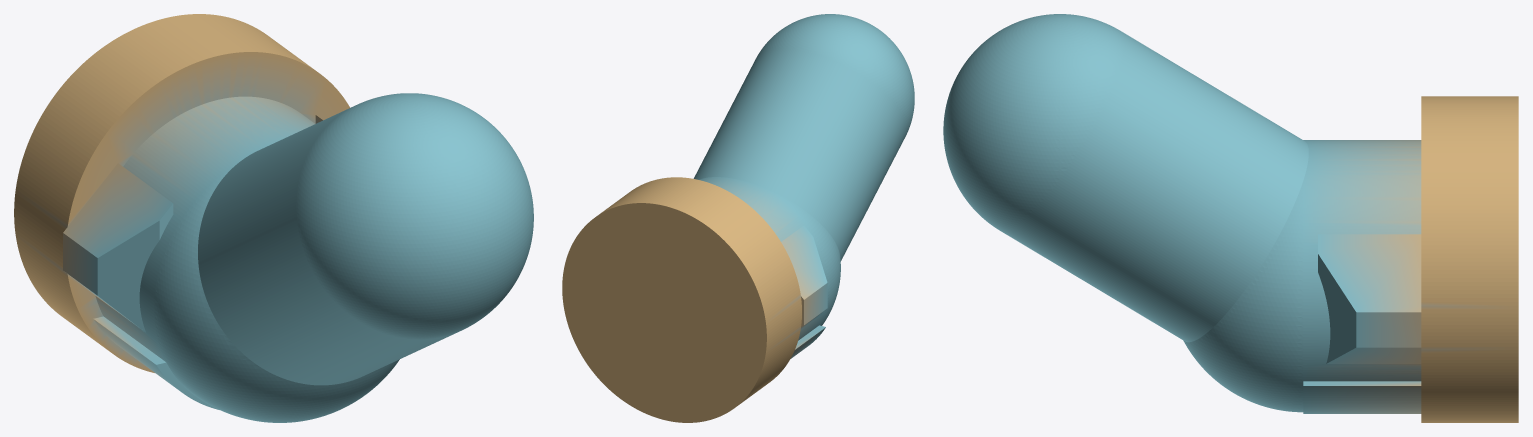
The model's file is upper-hook.glb.
3 renders of one model, left to right at view 1: azimuth 30°, elevation 25°; view 2: azimuth 150°, elevation 25°; view 3: azimuth 270°, elevation 25°, orthographic. The views are drawn at different scales.
Parts seen in each view (by area): view 1: peg-upper-hook__v1__pf02c9-hoop5__nub120.stl; view 2: peg-upper-hook__v1__pf02c9-hoop5__nub120.stl; view 3: peg-upper-hook__v1__pf02c9-hoop5__nub120.stl.
Boxes of the visible parts, left/top/right/bottom form: peg-upper-hook__v1__pf02c9-hoop5__nub120.stl: left=14, top=14, right=533, bottom=422; peg-upper-hook__v1__pf02c9-hoop5__nub120.stl: left=562, top=14, right=914, bottom=422; peg-upper-hook__v1__pf02c9-hoop5__nub120.stl: left=943, top=14, right=1518, bottom=422.
Size of the model in its own units: 0.00685 by 0.00869 by 0.0118.
